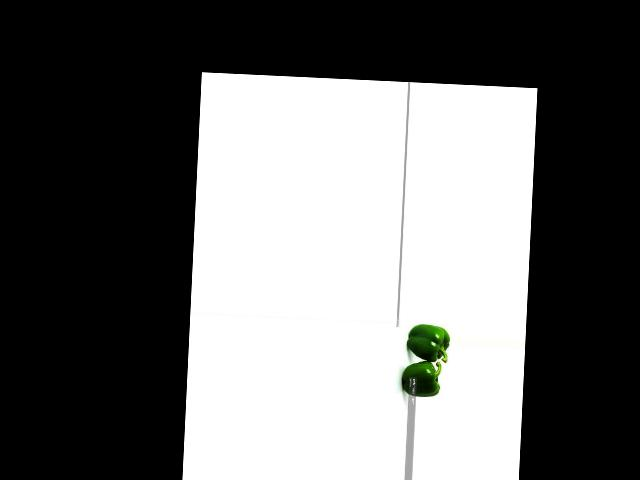bell_pepper: (400, 323, 453, 362)
